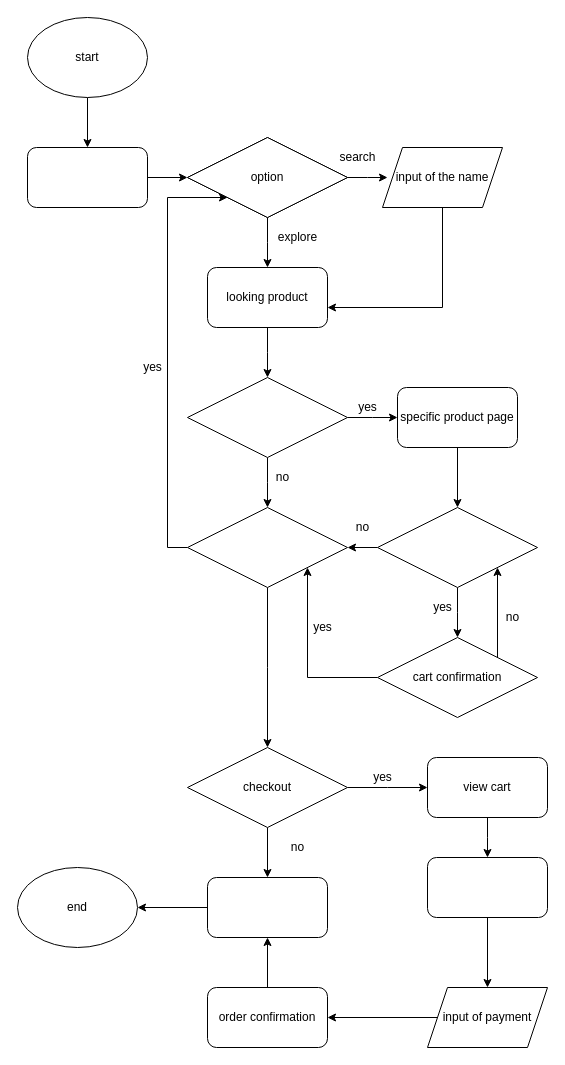
Image size: 565x1065. Some labels were removed from this diagram. The box of each missing label's shape, as (x1, y1, x2, y2) in pixels:
add the product to cart: (376, 506, 538, 588)
continue shopping: (186, 506, 348, 588)
entering website: (26, 146, 148, 208)
leaving website: (206, 876, 328, 938)
view payment: (426, 856, 548, 918)
view specific product: (186, 376, 348, 458)
